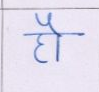ai_matra: (35, 11, 61, 32)
